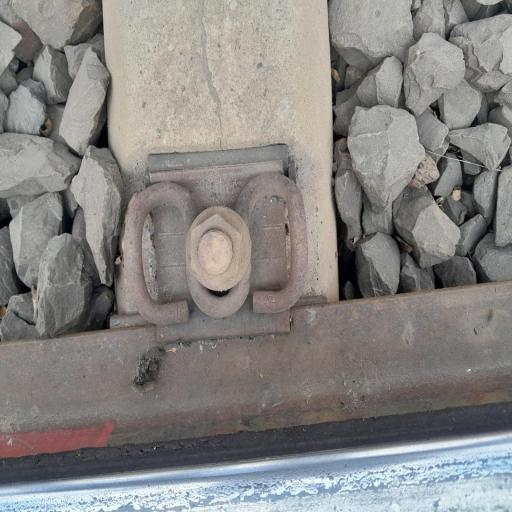bolt: (176, 196, 265, 300)
clip: (102, 160, 330, 336)
